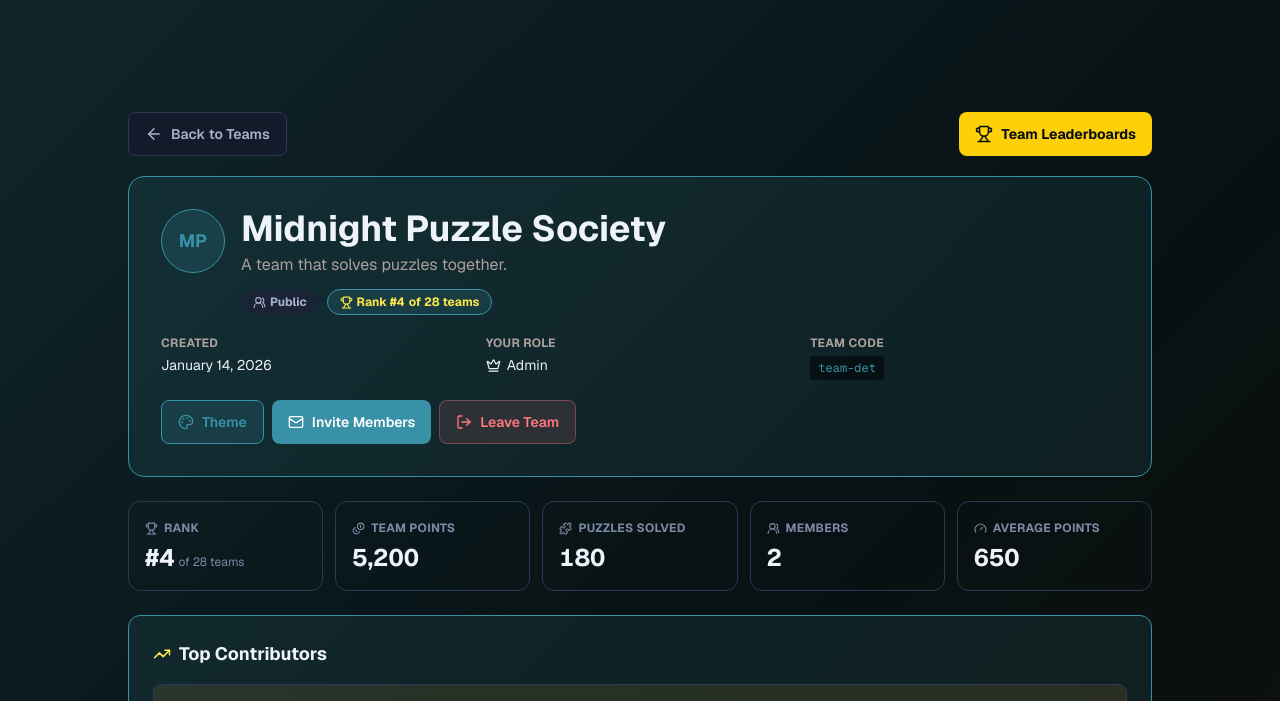
it: Team Detail page — composition › 55. theme picker remains page-owned (opens via Theme button)
The image size is (1280, 701).
Click the button "Theme". click: click(212, 422)
box: [161,400,264,444]
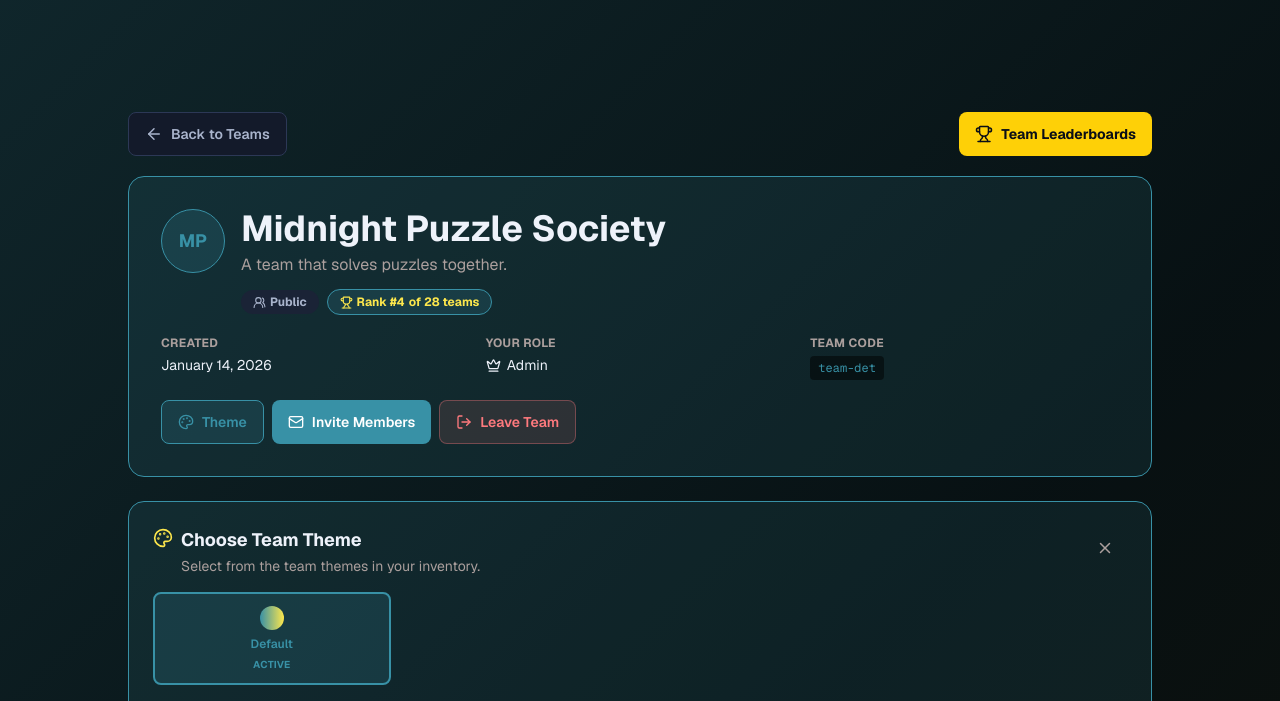
Check: the heading "Choose Team Theme" is shown, box [181,528,362,550]
